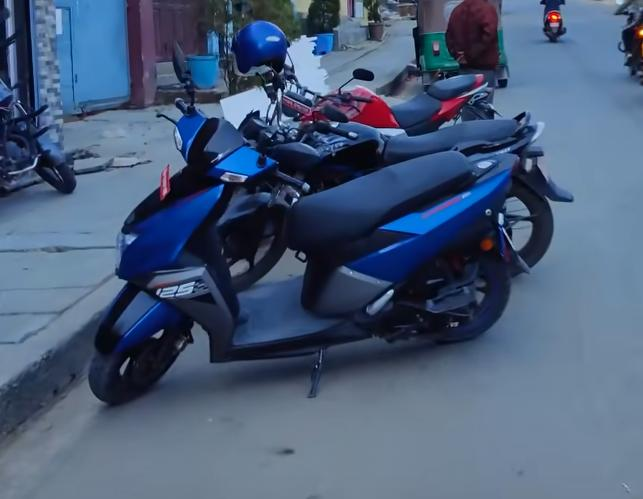scooter: (84, 91, 524, 411)
